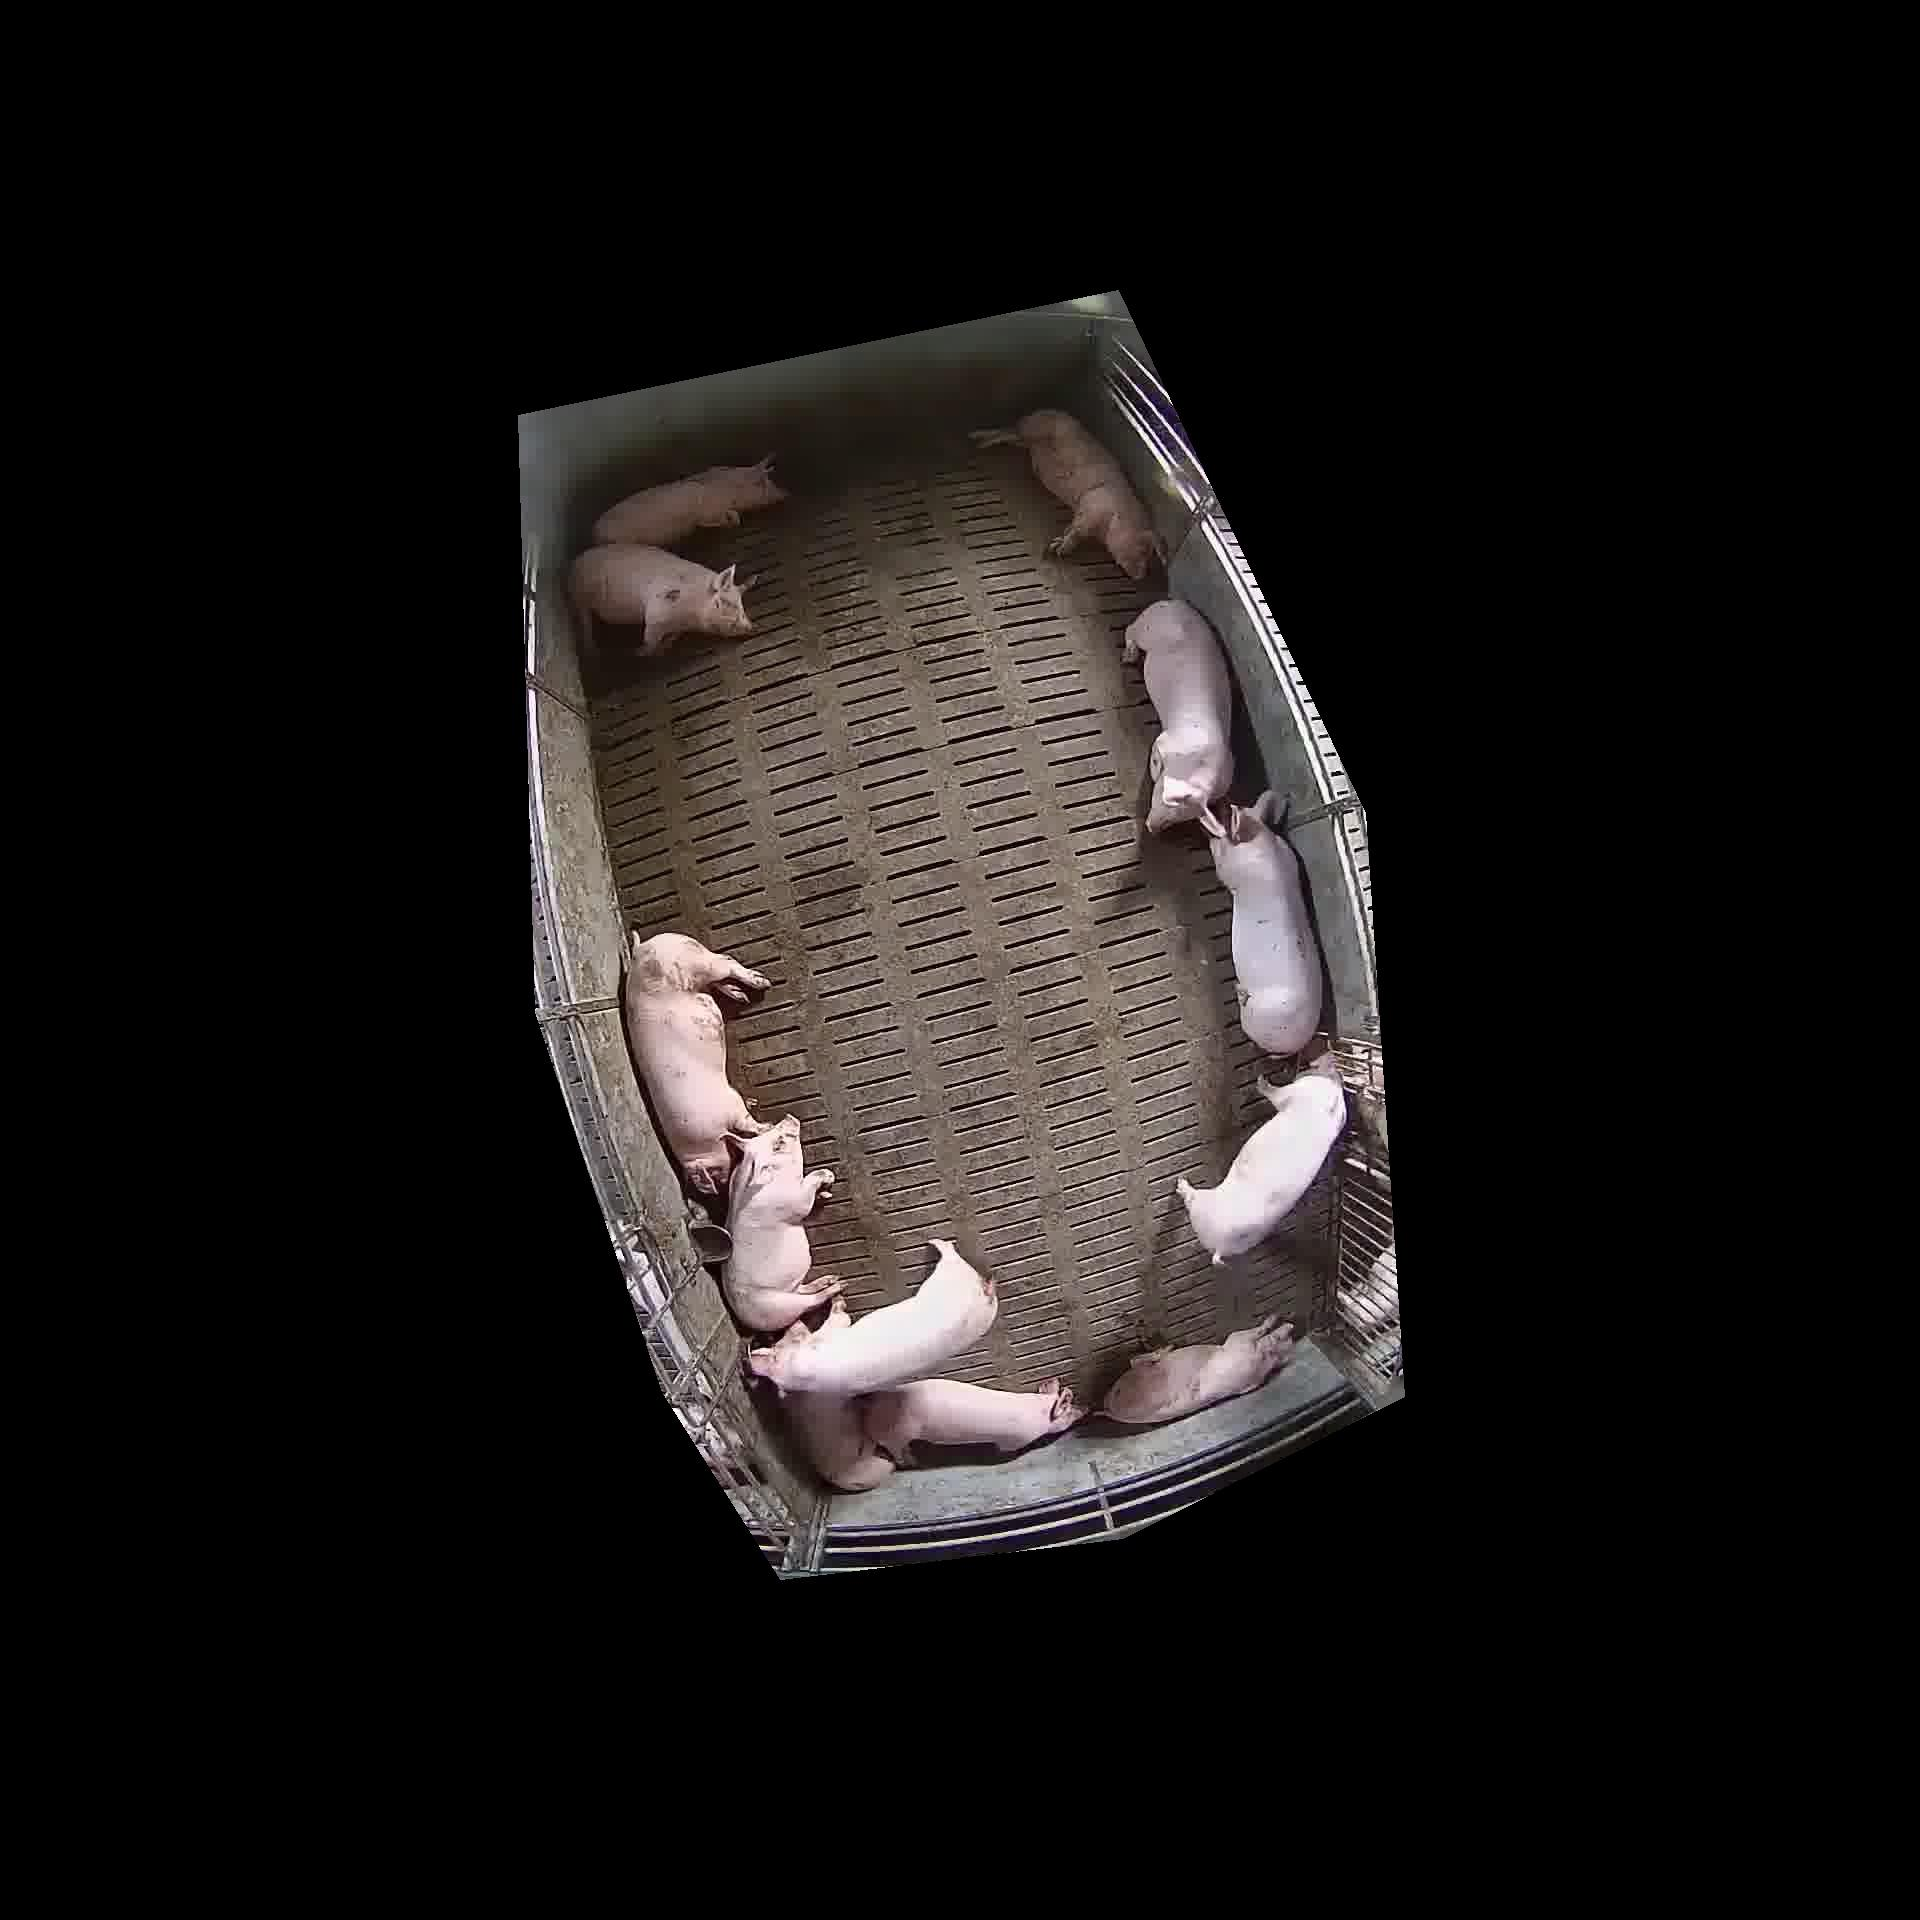pig: (749, 1240, 997, 1398), (624, 934, 767, 1194), (1199, 789, 1322, 1053), (1176, 1071, 1345, 1262), (971, 410, 1160, 578), (723, 1116, 842, 1331), (1125, 600, 1233, 832), (570, 543, 751, 656), (1102, 1315, 1292, 1422), (858, 1377, 1085, 1461), (593, 455, 784, 547), (777, 1387, 891, 1489)
